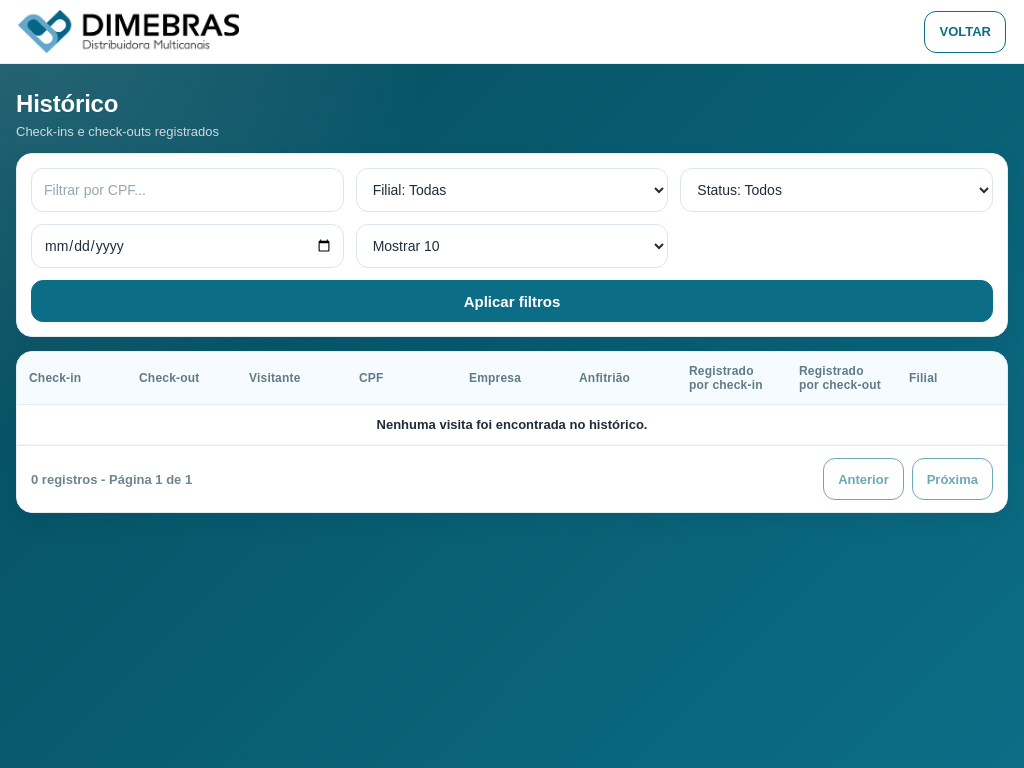
Test: History › exibe estado vazio sem filtros e com filtros informados
This screenshot has width=1024, height=768.
Check: the text "Nenhuma visita foi encontrada no histórico." is shown, box [17,405,1007,445]
Type "123.456.789-00" into the field labelled "Filtrar por CPF" at (187, 190), box [31,168,344,212]
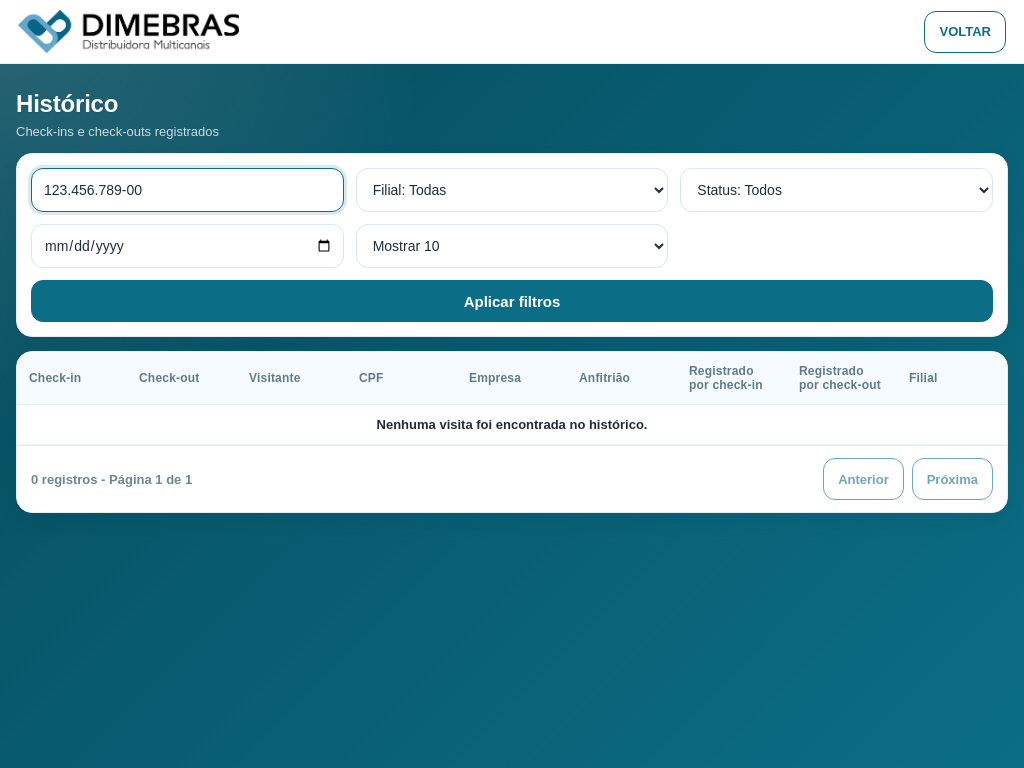
Click the button "Aplicar filtros" at (512, 301), box [31,280,993,322]
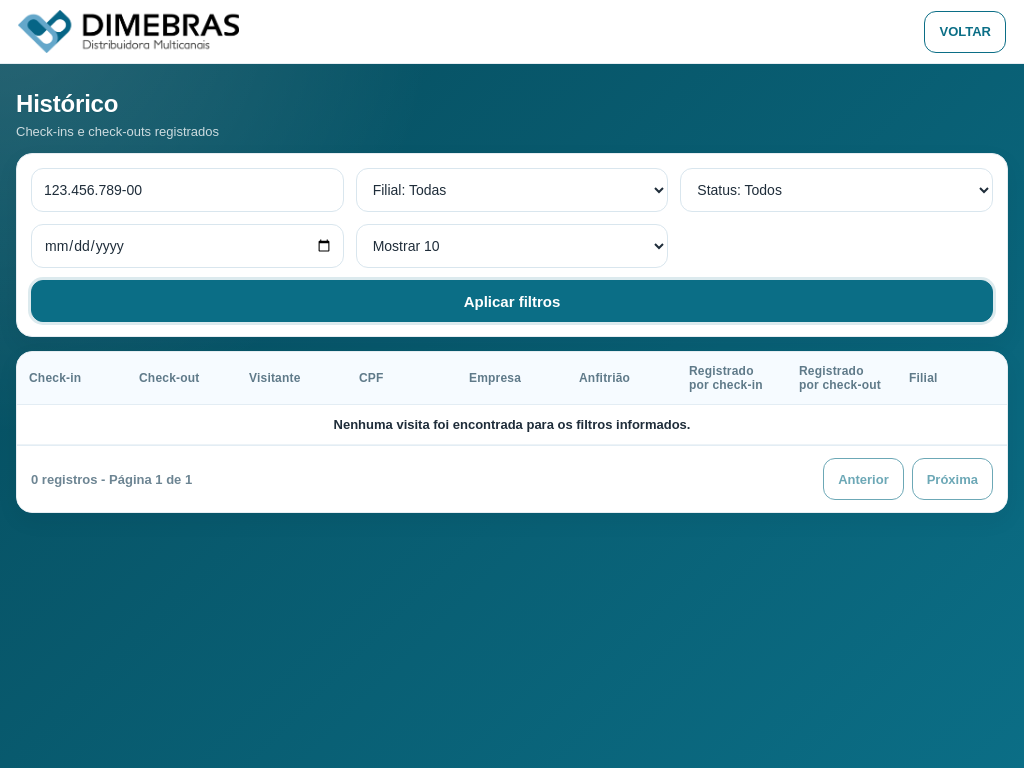
Check: the text "Nenhuma visita foi encontrada para os filtros informados." is shown, box [17,405,1007,445]
